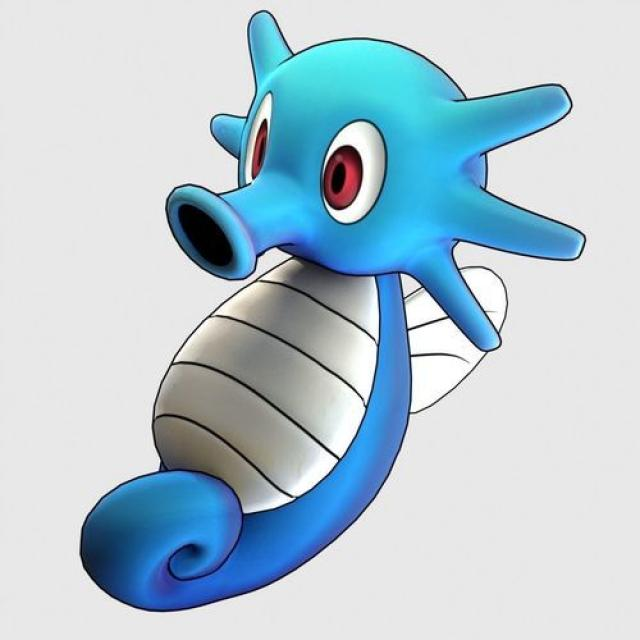Horsea: (88, 9, 510, 610)
